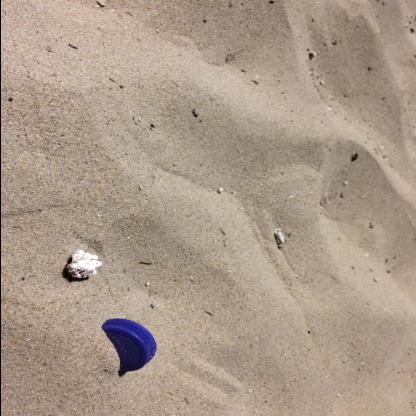kopuk: (67, 251, 104, 280)
plastik: (101, 319, 157, 373)
